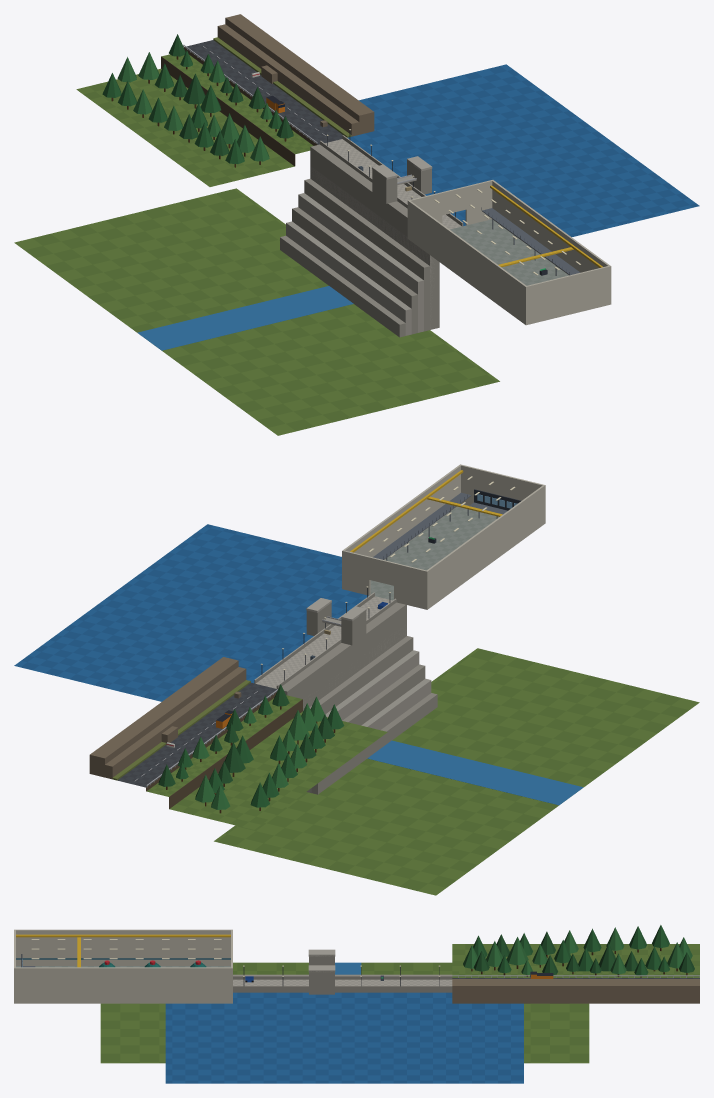
The model's file is stage3.glb.
3 renders of one model, top to bottom at view 1: azimuth 30°, elevation 25°; view 2: azimuth 150°, elevation 25°; view 3: azimuth 270°, elevation 25°, orthographic. The views are drawn at different scales.
Visible parts, largest first — view 1: Dam, Road, Hall; view 2: Dam, Road, Hall; view 3: Dam, Hall, Road, Lights.
Part boxes in pixels (x1,y1,x2,y2): Dam: (14,64,699,435); Road: (76,14,374,186); Hall: (407,180,611,325); Dam: (14,524,699,895); Road: (89,657,387,829); Hall: (342,464,545,609); Dam: (100,949,589,1083); Hall: (14,929,232,1003); Road: (452,925,699,1003); Lights: (31,939,440,976).
Size of the model in its own units: 150 by 42 by 211.
